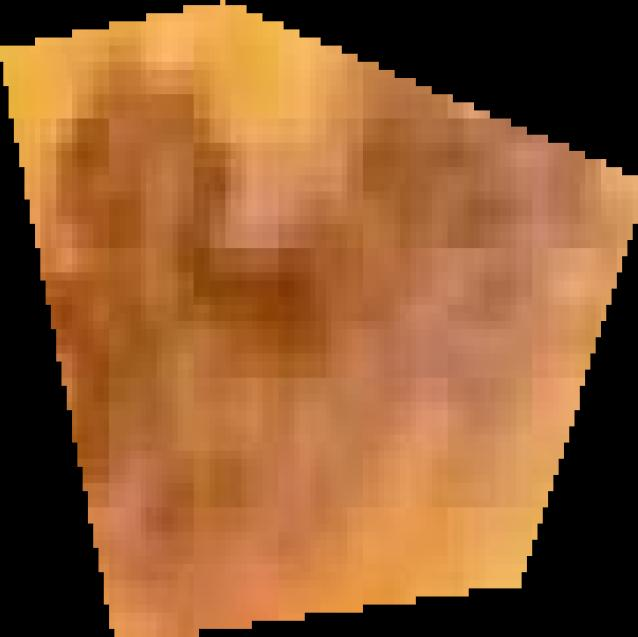Pitting Corrosion: (1, 1, 638, 637)
